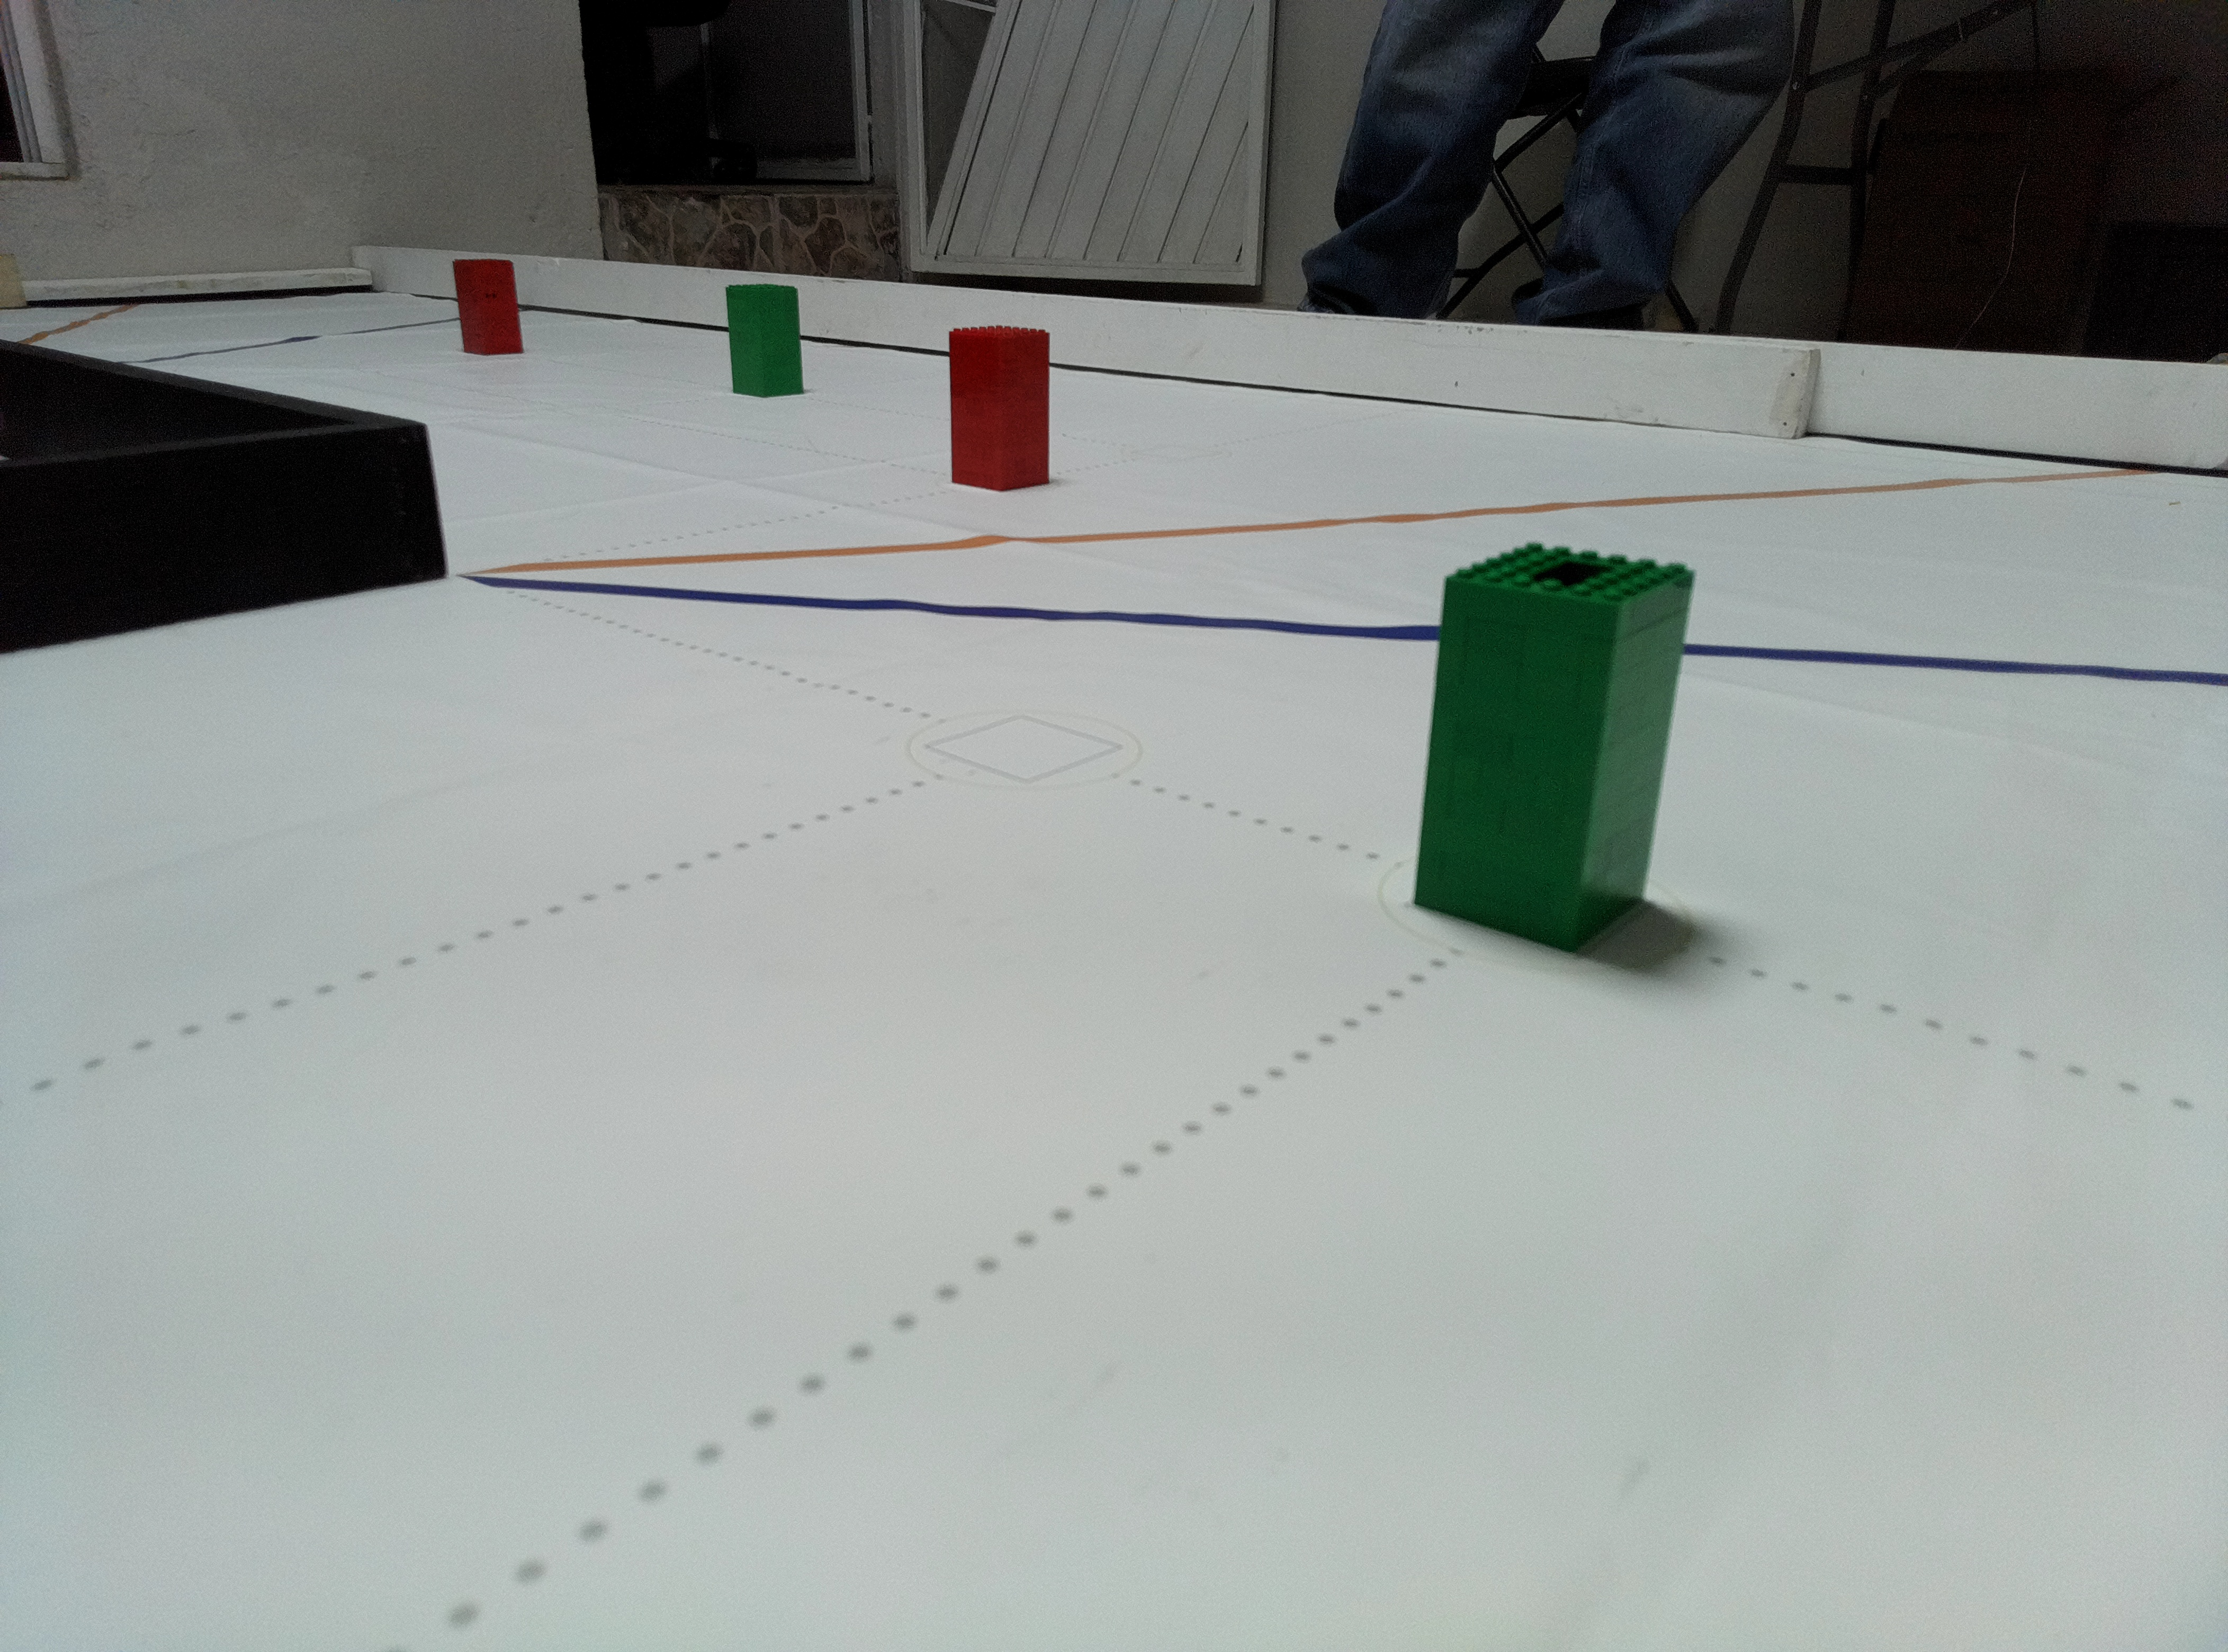greenbox: (1409, 541, 1695, 956), (724, 283, 807, 401)
redbox: (946, 324, 1048, 489), (451, 257, 526, 357)
